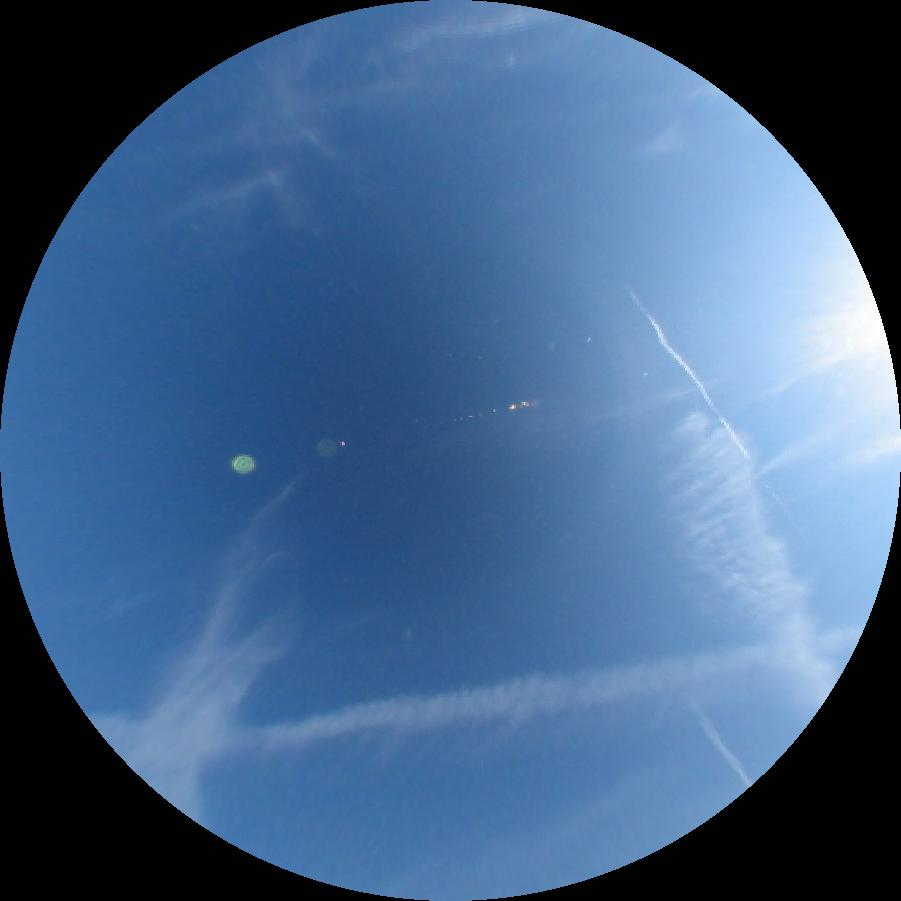contrail old: (624, 285, 804, 533), (679, 693, 754, 787)
contrail veryold: (223, 626, 863, 749), (655, 412, 837, 714)
